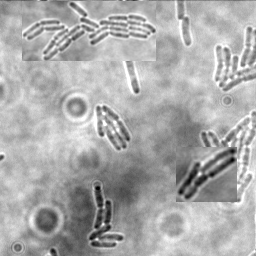Microcolony: (22, 1, 156, 61), (200, 109, 255, 205), (176, 147, 237, 202), (212, 25, 255, 94), (89, 184, 126, 248), (96, 103, 132, 150), (182, 16, 193, 48)
